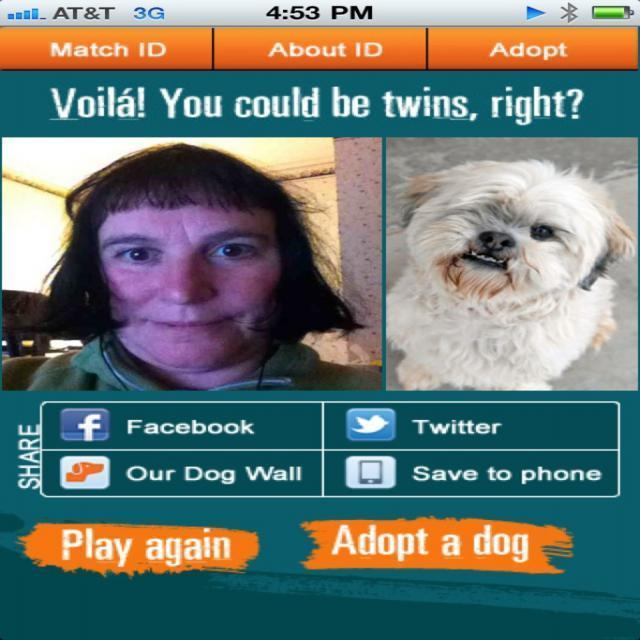closed-mouth: (151, 317, 233, 335)
